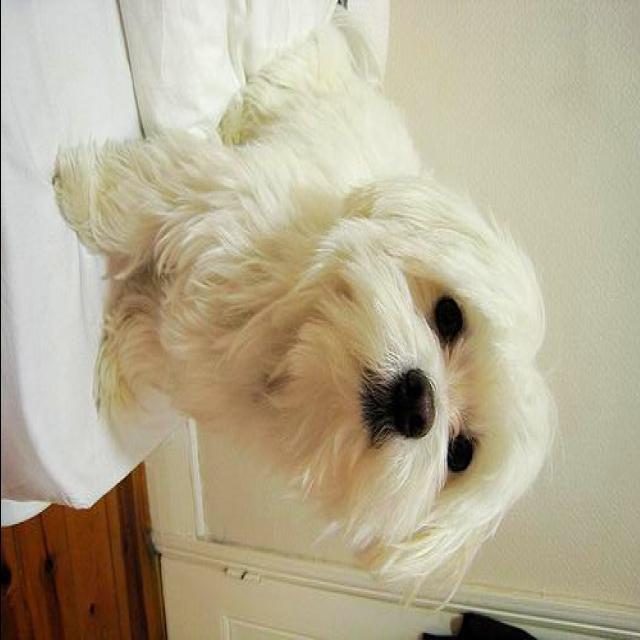maltese_dog: (58, 18, 562, 572)
